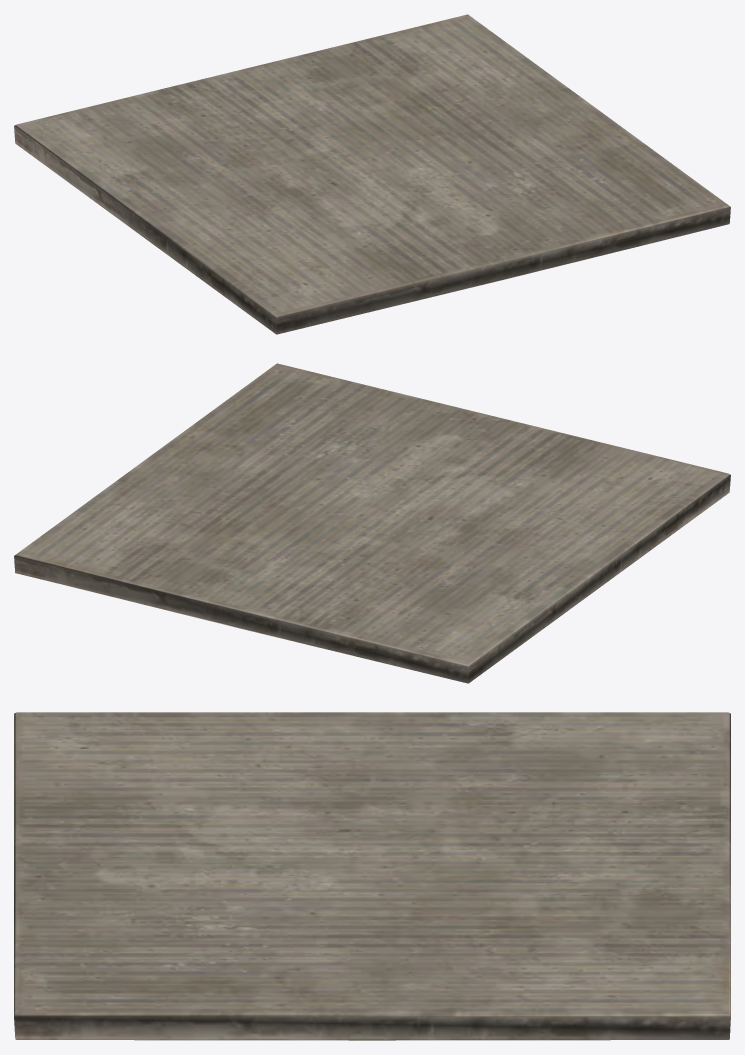
File: floor.brutalist.glb
3 views of the same model, one above another, from view 1: azimuth 30°, elevation 25°; view 2: azimuth 150°, elevation 25°; view 3: azimuth 270°, elevation 25° (orthographic). The views are drawn at different scales.
Parts seen in each view (by area): view 1: model; view 2: model; view 3: model.
Boxes of the visible parts, x1,y1,x2,y2 form: model: [14, 14, 730, 334]; model: [14, 363, 730, 683]; model: [14, 712, 730, 1040].
Size of the model in its own units: 3 by 0.1251 by 3.
1 material, 1 textured.
